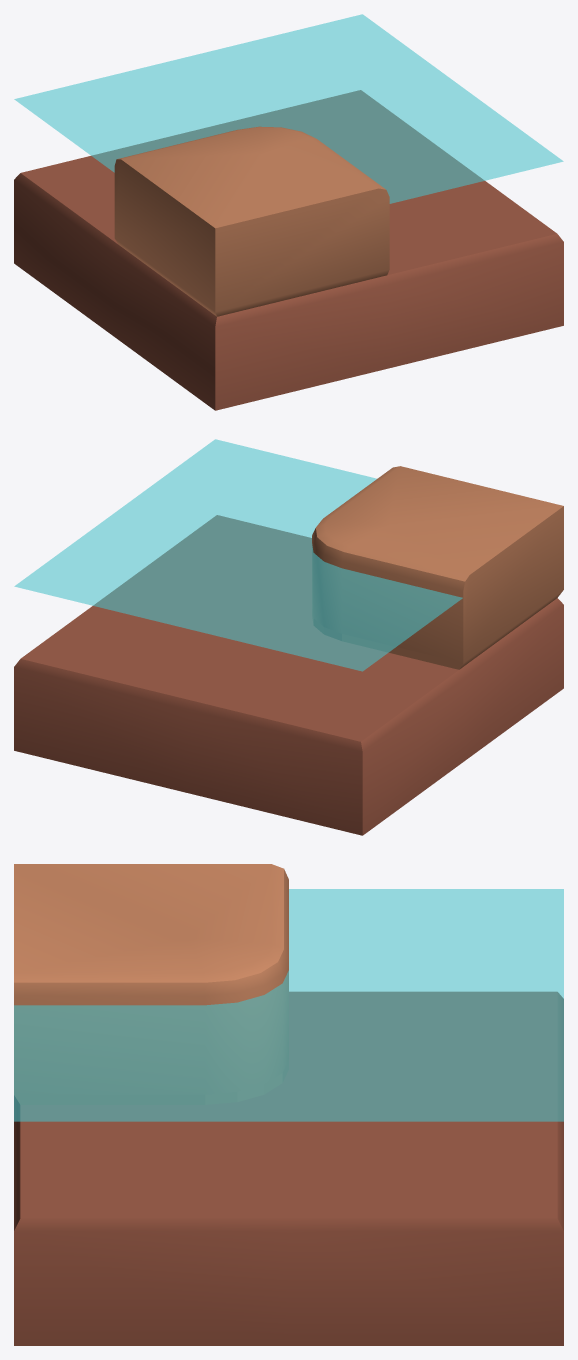
Rendered from square_rock_waterOuterCorner_noSides.fbx.
3 views of the same model, one above another, from view 1: azimuth 30°, elevation 25°; view 2: azimuth 150°, elevation 25°; view 3: azimuth 270°, elevation 25° (orthographic). The views are drawn at different scales.
Visible parts, largest first — view 1: square_rock_waterOuterCorner_noSides; view 2: square_rock_waterOuterCorner_noSides; view 3: square_rock_waterOuterCorner_noSides.
Boxes of the visible parts, x1,y1,x2,y2 form: square_rock_waterOuterCorner_noSides: [14, 14, 563, 410]; square_rock_waterOuterCorner_noSides: [14, 439, 563, 835]; square_rock_waterOuterCorner_noSides: [14, 864, 563, 1345].
Bounding box in the file's own units: 2 × 1 × 2.
